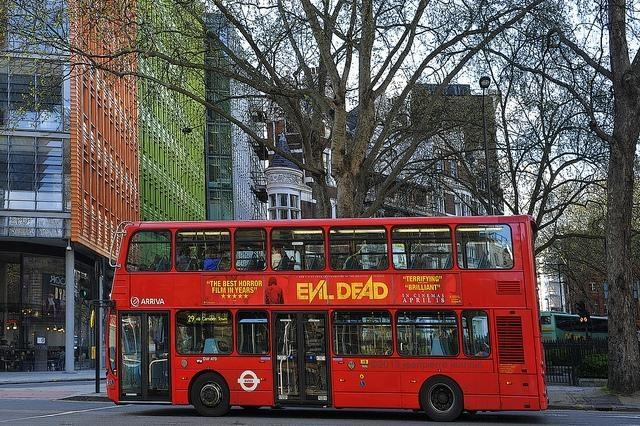bus: (103, 216, 550, 420)
